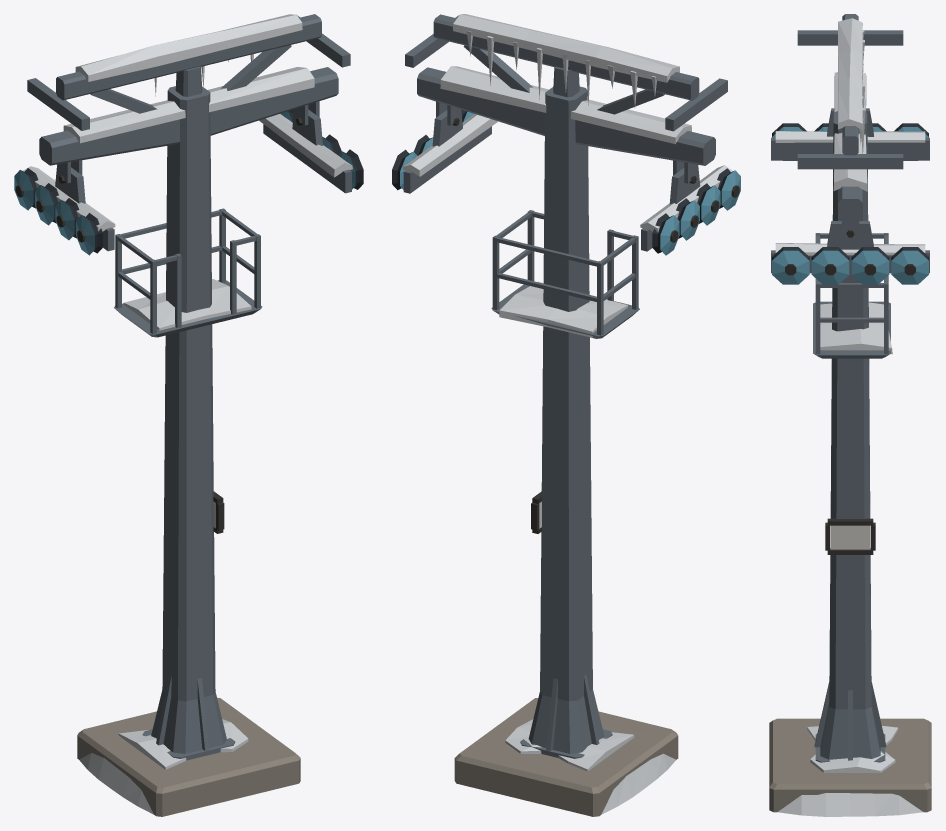
File: lift-pylon-no-ladder-v02.glb
3 views of the same model, side by side, from view 1: azimuth 30°, elevation 25°; view 2: azimuth 150°, elevation 25°; view 3: azimuth 270°, elevation 25° (orthographic). The views are drawn at different scales.
Visible parts, largest first — view 1: pylon, train-r-beam, sheave-mesh (×4), train-l-beam; view 2: pylon, train-r-beam, sheave-mesh (×4), train-l-beam; view 3: pylon, sheave-mesh (×4), train-l-beam, train-r-beam.
Part boxes in pixels (x1,y1,x2,y2): pylon: (27,14,350,816); train-r-beam: (259,109,352,193); sheave-mesh (×4): (14,168,102,255); train-l-beam: (23,164,115,251); pylon: (405,14,727,816); train-r-beam: (403,109,497,193); sheave-mesh (×4): (652,168,740,255); train-l-beam: (640,164,732,251); pylon: (769,14,931,816); sheave-mesh (×4): (772,247,928,284); train-l-beam: (771,108,929,160); train-r-beam: (771,221,929,273).
Bounding box in the file's own units: 3.96 × 9.68 × 2.
